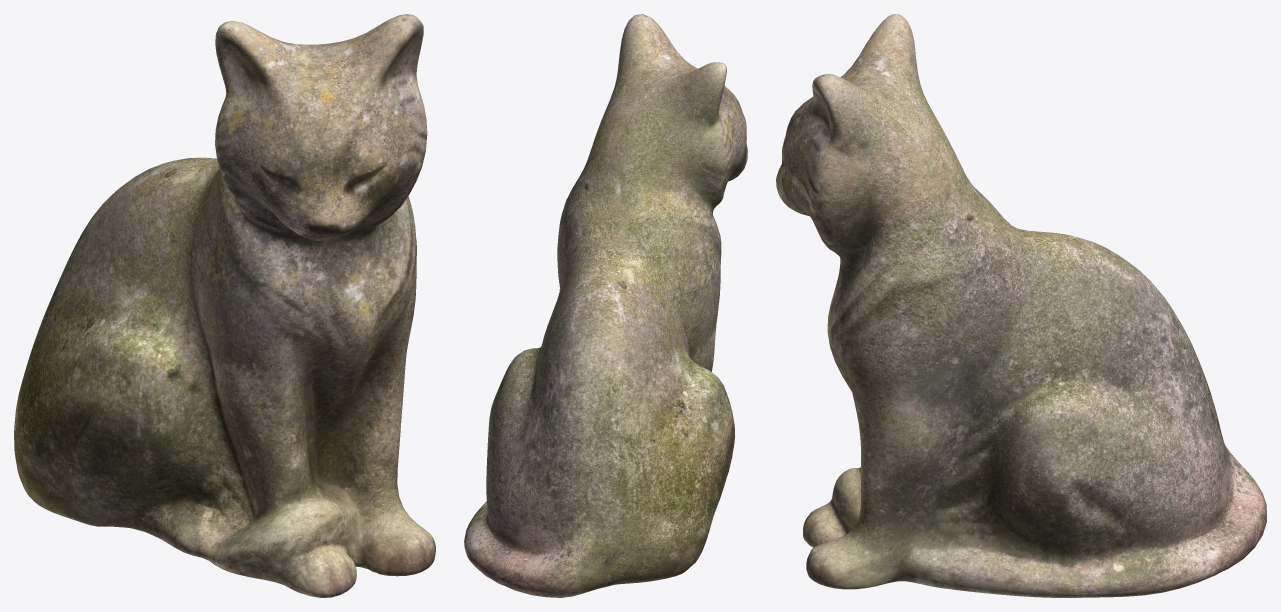
Rendered from ph_concrete_cat_statue.glb.
The picture shows the model from 3 angles, left to right: view 1: azimuth 30°, elevation 25°; view 2: azimuth 150°, elevation 25°; view 3: azimuth 270°, elevation 25°; orthographic projection. The views are drawn at different scales.
Visible parts, largest first — view 1: concrete_cat_statue; view 2: concrete_cat_statue; view 3: concrete_cat_statue.
Boxes of the visible parts, x1=… form: concrete_cat_statue: x1=14, y1=14, x2=435, y2=597; concrete_cat_statue: x1=464, y1=14, x2=747, y2=597; concrete_cat_statue: x1=776, y1=14, x2=1266, y2=597.
Bounding box in the file's own units: 0.153 × 0.283 × 0.25.
1 material, 1 textured.
